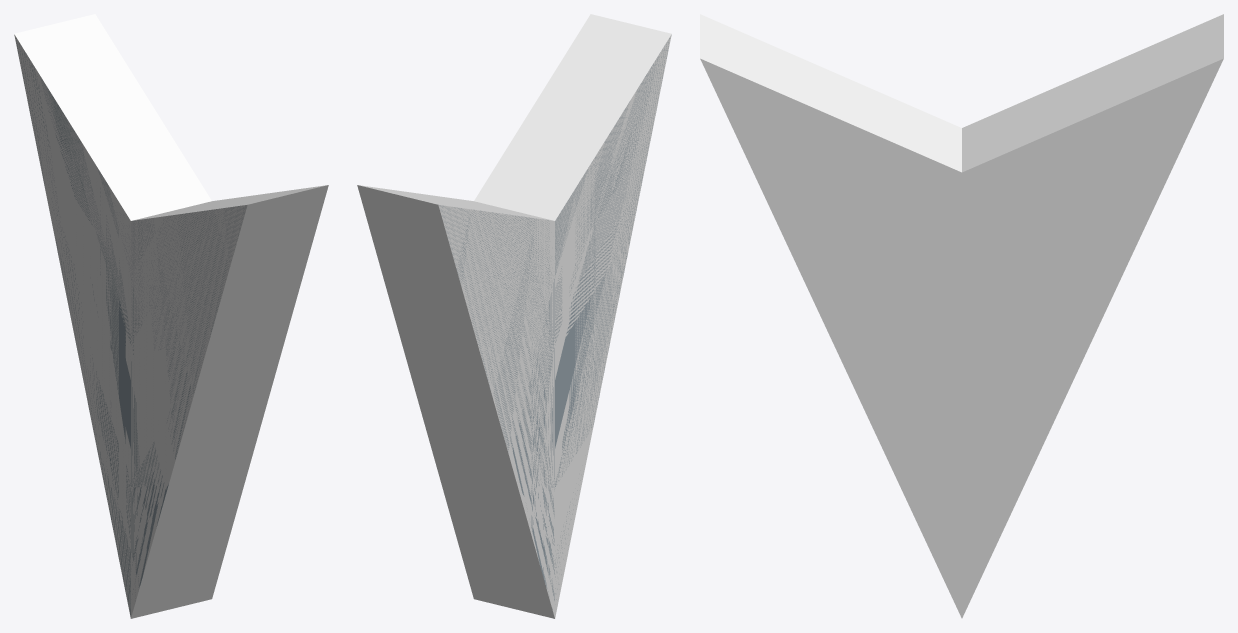
The model's file is sadfsfas.dae.
The picture shows the model from 3 angles, left to right: view 1: azimuth 30°, elevation 25°; view 2: azimuth 150°, elevation 25°; view 3: azimuth 270°, elevation 25°; orthographic projection. The views are drawn at different scales.
Parts seen in each view (by area): view 1: SketchUp (×2); view 2: SketchUp (×2); view 3: SketchUp.
Part boxes in pixels (x1=…): SketchUp (×2): x1=14, y1=14, x2=328, y2=618; SketchUp (×2): x1=357, y1=14, x2=671, y2=618; SketchUp: x1=700, y1=14, x2=1223, y2=618.
Size of the model in its own units: 71.5 by 356 by 421.
